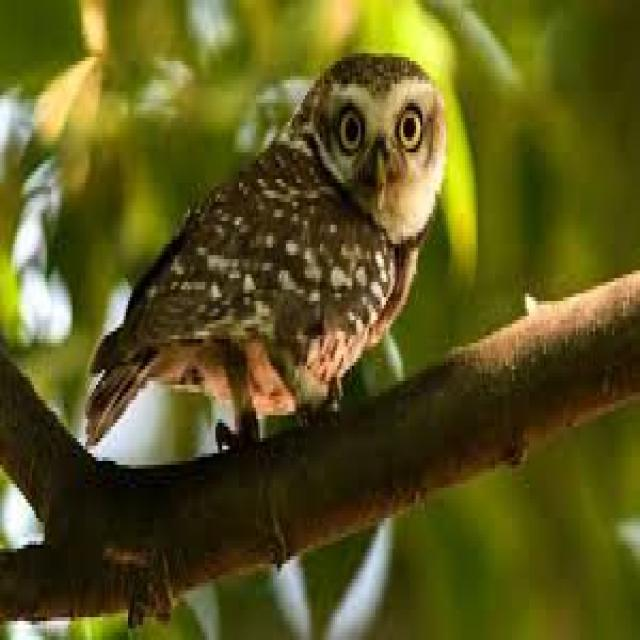Owl: (83, 48, 448, 451)
